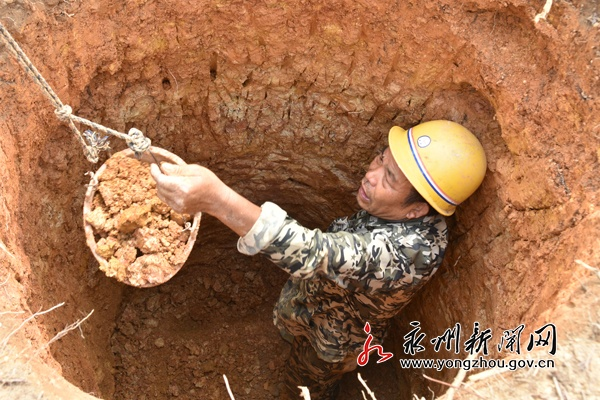yellow: (349, 115, 495, 228)
